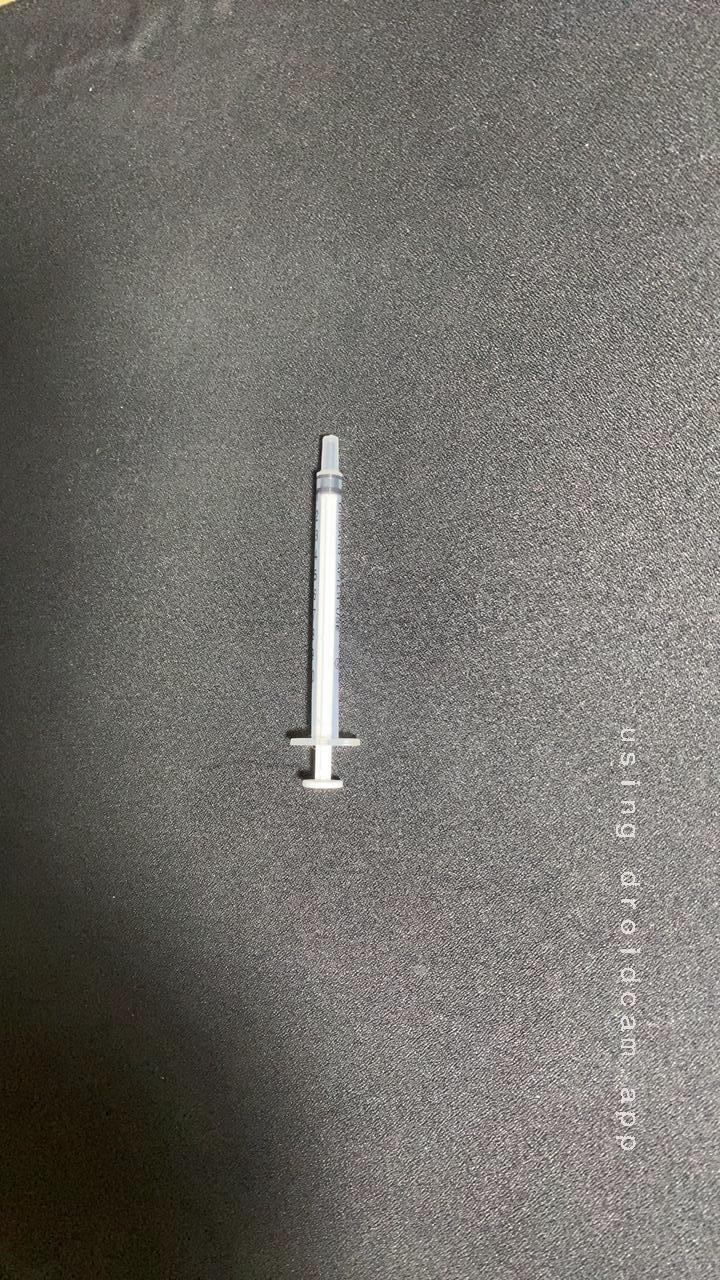syringe: (258, 427, 392, 799)
